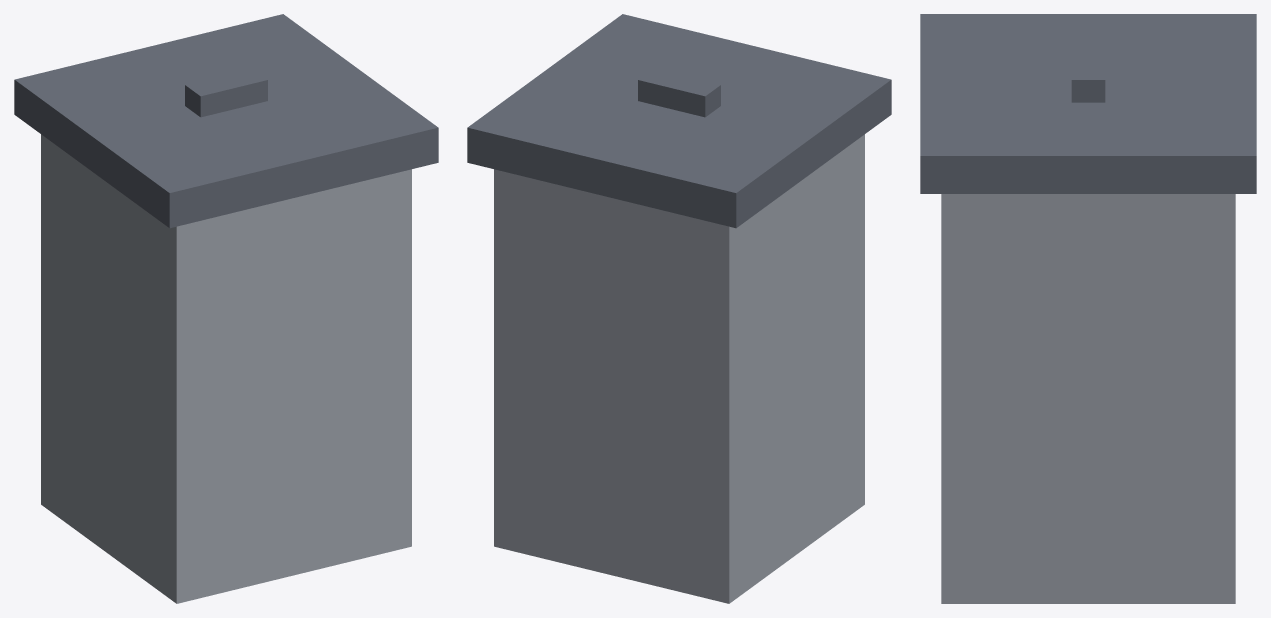
The model's file is trashcan.glb.
The picture shows the model from 3 angles, left to right: view 1: azimuth 30°, elevation 25°; view 2: azimuth 150°, elevation 25°; view 3: azimuth 270°, elevation 25°; orthographic projection. The views are drawn at different scales.
Parts seen in each view (by area): view 1: trashcan; view 2: trashcan; view 3: trashcan.
Part boxes in pixels (bbox=[...]): trashcan: bbox=[14, 14, 438, 603]; trashcan: bbox=[467, 14, 891, 603]; trashcan: bbox=[920, 14, 1256, 603].
Size of the model in its own units: 0.4 by 0.63 by 0.4.
1 material, 1 textured.
